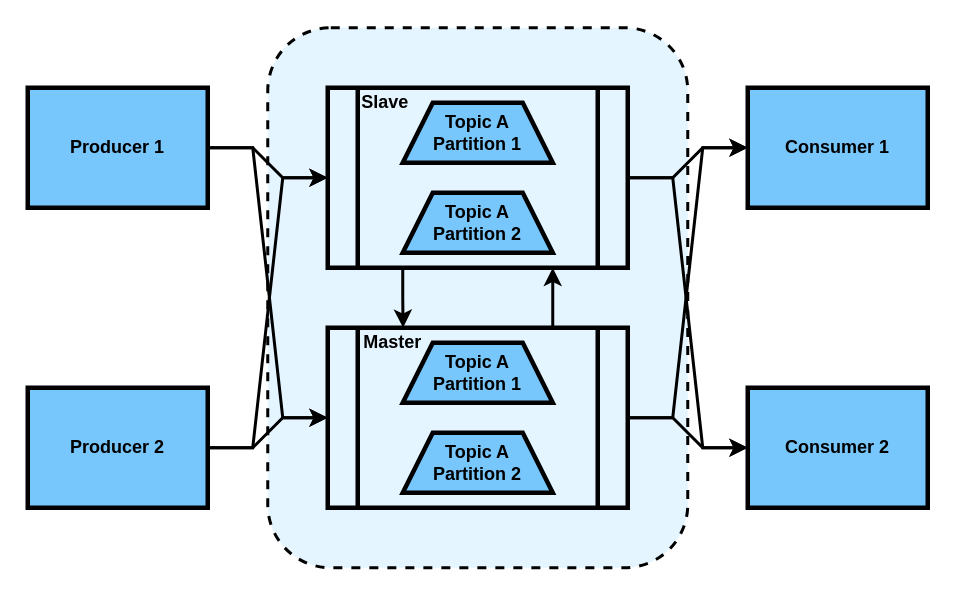
The diagram is 956 pixels wide and 594 high, and some of its shapes have lost their labels. The shapes that lost their labels are listed below. From the top down, each one's box as (x1, y1, x2, y2) in pixels, then its label:
(325, 85, 629, 269): Broker 1
(325, 325, 629, 509): Broker 2
